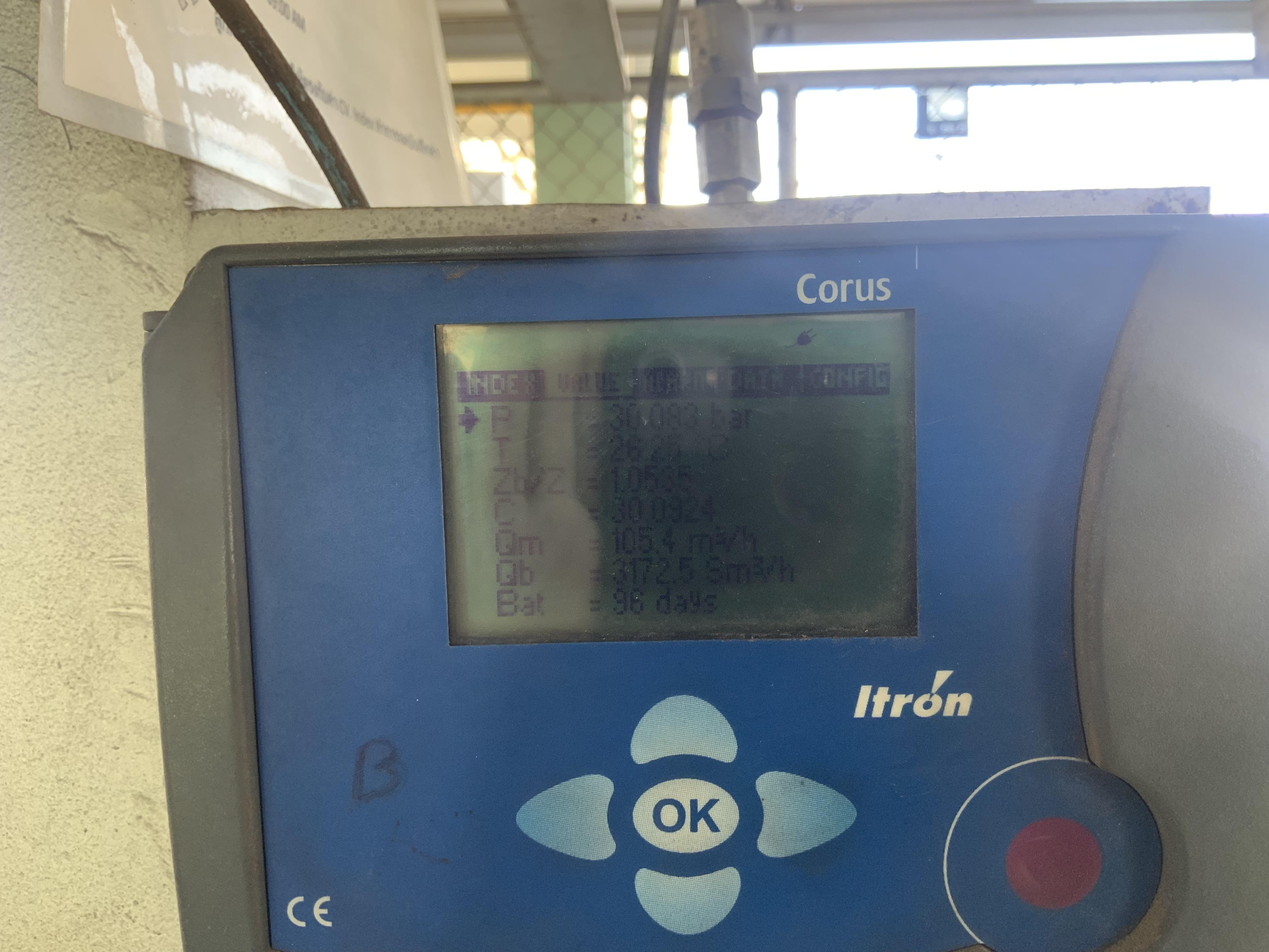digital_screen: (437, 311, 925, 649)
